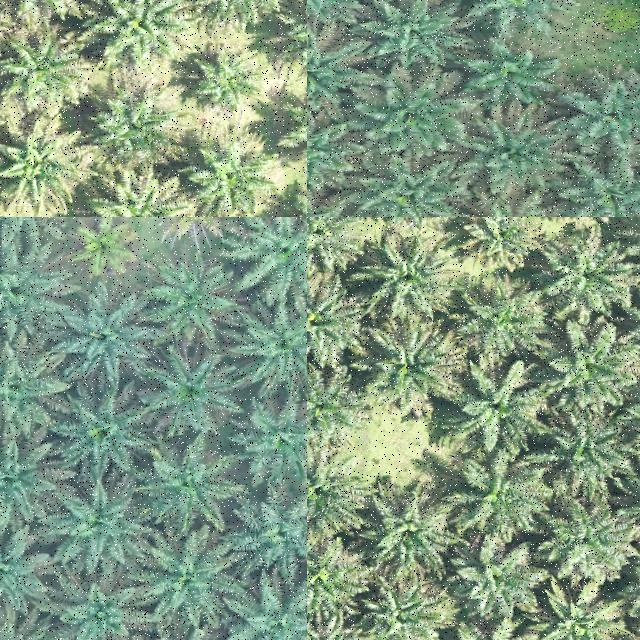Ganoderma: (80, 224, 132, 268), (168, 217, 224, 229)
